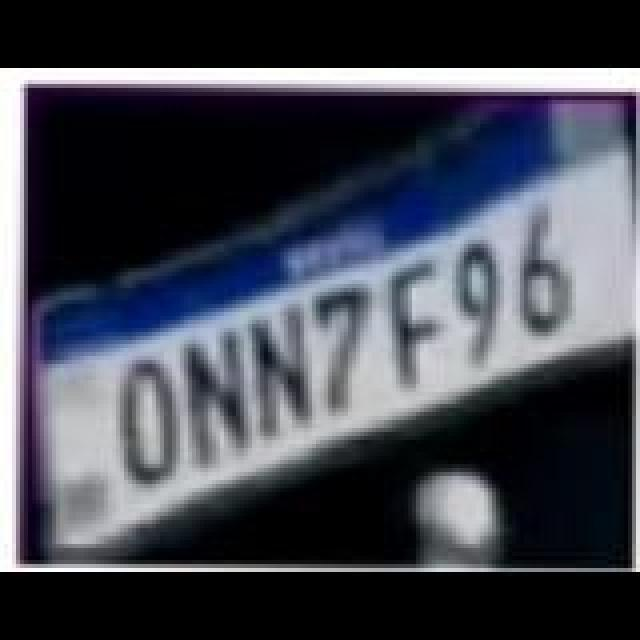6: (510, 206, 578, 338)
7: (314, 286, 382, 418)
9: (454, 242, 514, 366)
F: (382, 260, 450, 396)
N: (178, 332, 254, 468), (248, 306, 320, 446)
O: (118, 362, 186, 494)
